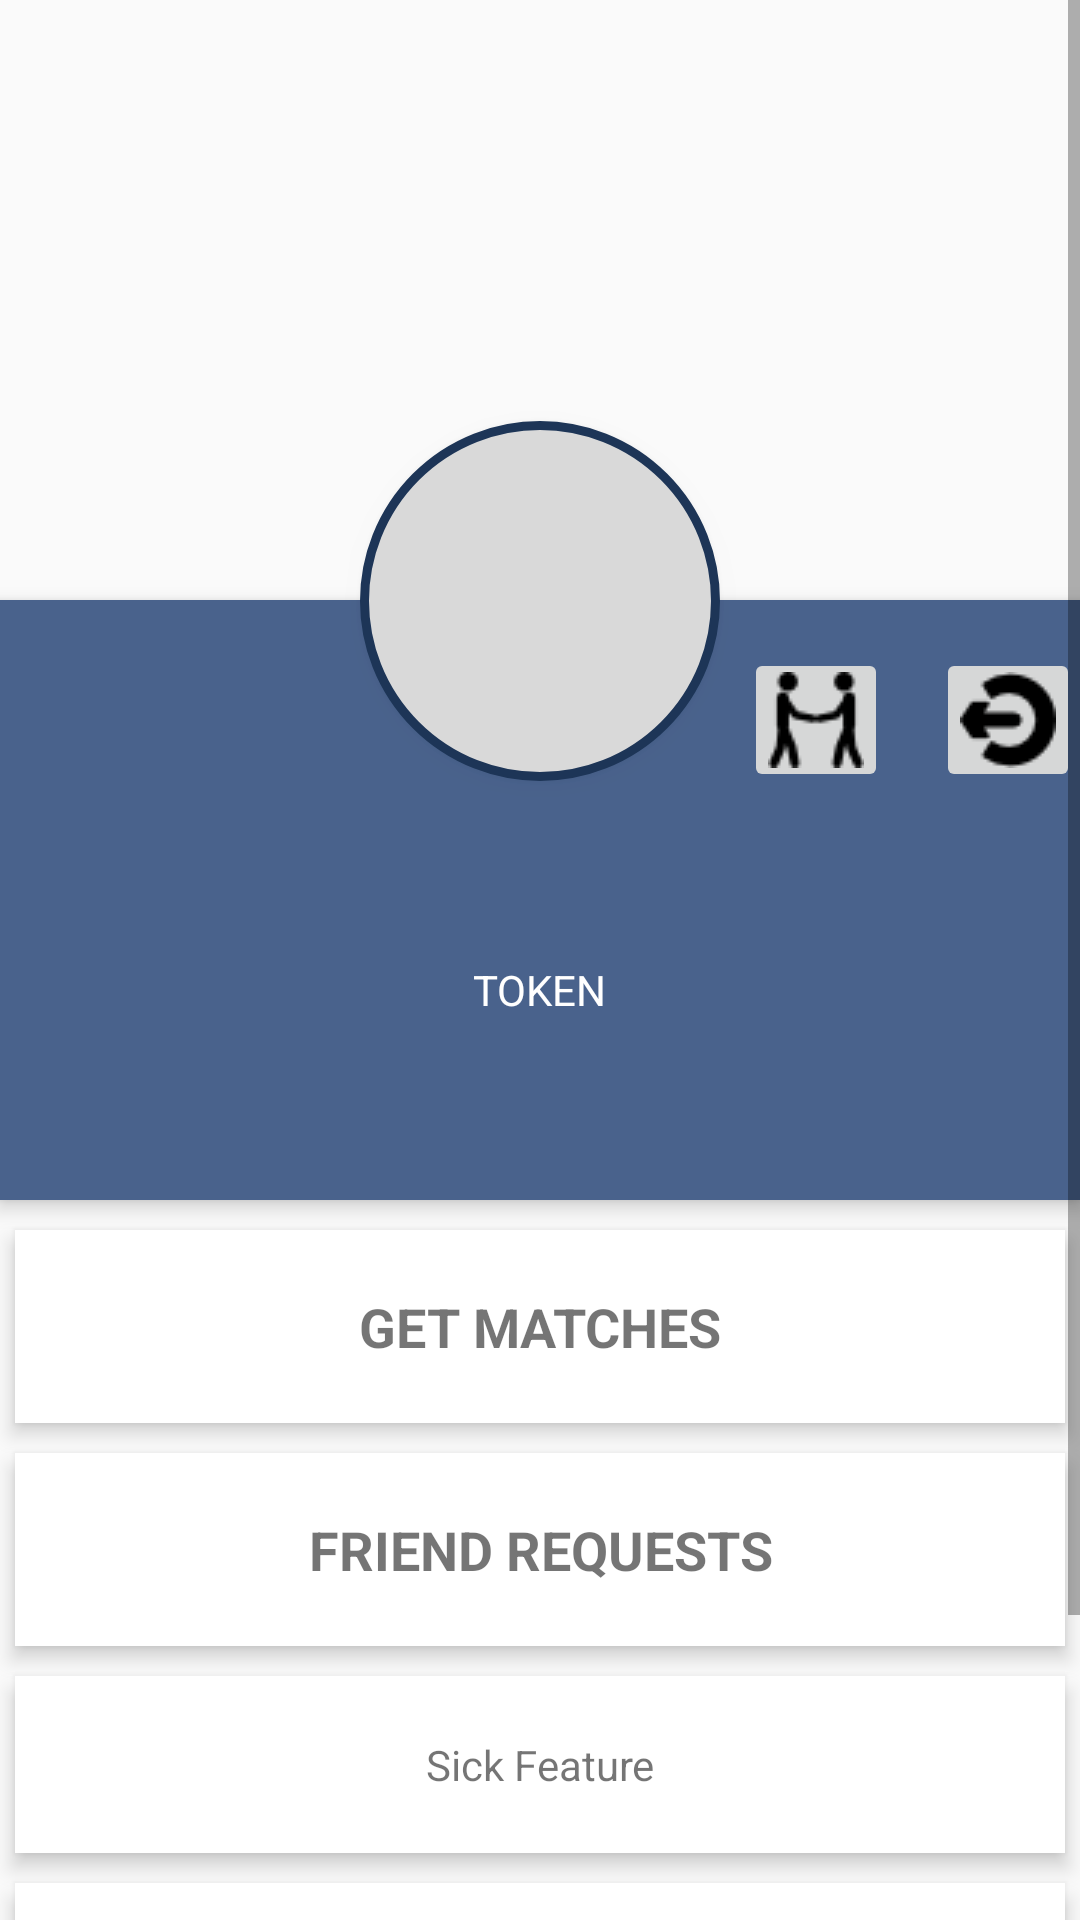

Icons on this 1080x1920 Android screen, each with the point to tap as point (x, y):
exit: point (1014, 720)
